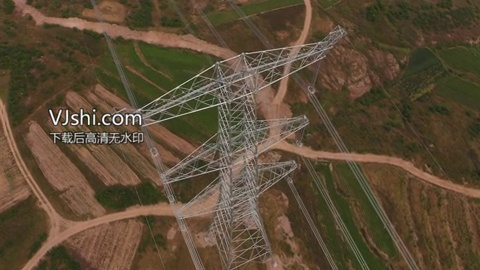tower_body: (120, 25, 350, 270)
tower_foot: (209, 213, 272, 266)
tower_head: (122, 28, 346, 120)
